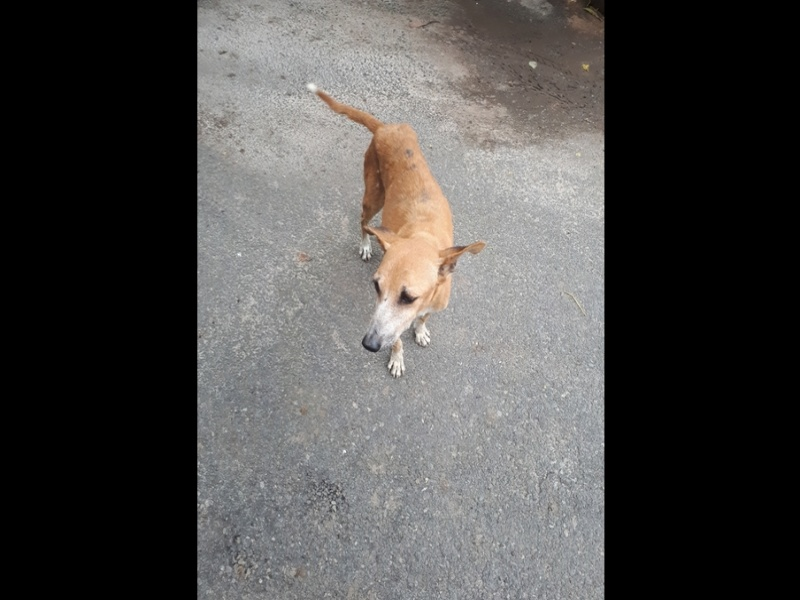dog: (298, 74, 489, 382)
